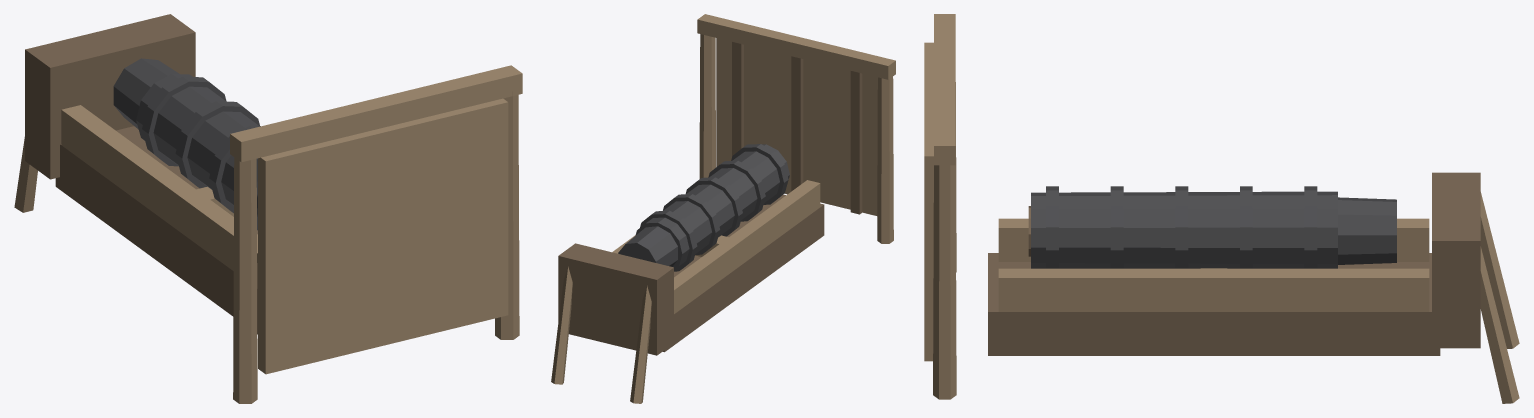
Rendered from bombard.glb.
The picture shows the model from 3 angles, left to right: view 1: azimuth 30°, elevation 25°; view 2: azimuth 150°, elevation 25°; view 3: azimuth 270°, elevation 25°; orthographic projection. The views are drawn at different scales.
Parts seen in each view (by area): view 1: MantletBoard, Bed, BarrelTube; view 2: Bed, MantletBoard, BarrelTube; view 3: Bed, BarrelTube, MantletBoard.
Boxes of the visible parts, <box> form: MantletBoard: <box>258,98,508,374</box>; Bed: <box>14,14,522,403</box>; BarrelTube: <box>113,58,260,230</box>; Bed: <box>551,14,895,403</box>; MantletBoard: <box>716,38,877,215</box>; BarrelTube: <box>618,144,789,271</box>; Bed: <box>933,14,1519,403</box>; BarrelTube: <box>1028,186,1396,268</box>; MantletBoard: <box>924,42,933,361</box>.
Size of the model in its own units: 2.9 by 3.02 by 5.53.
